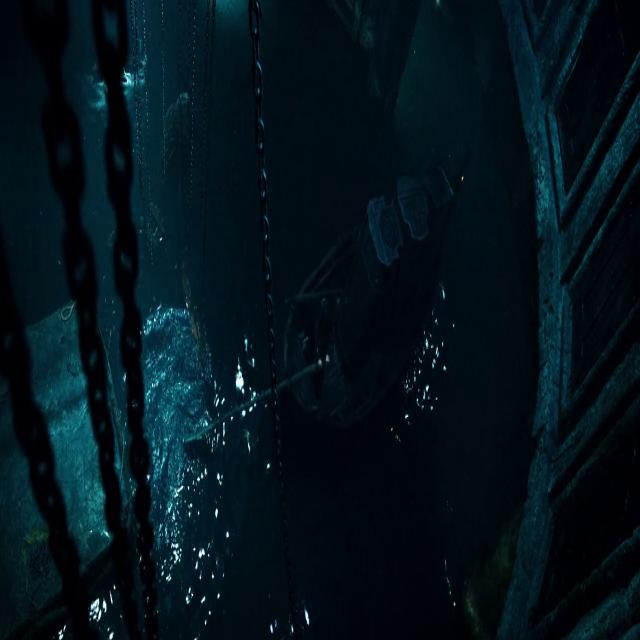Boat: (263, 161, 492, 439)
